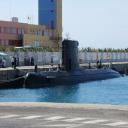submarine: (24, 41, 126, 90)
